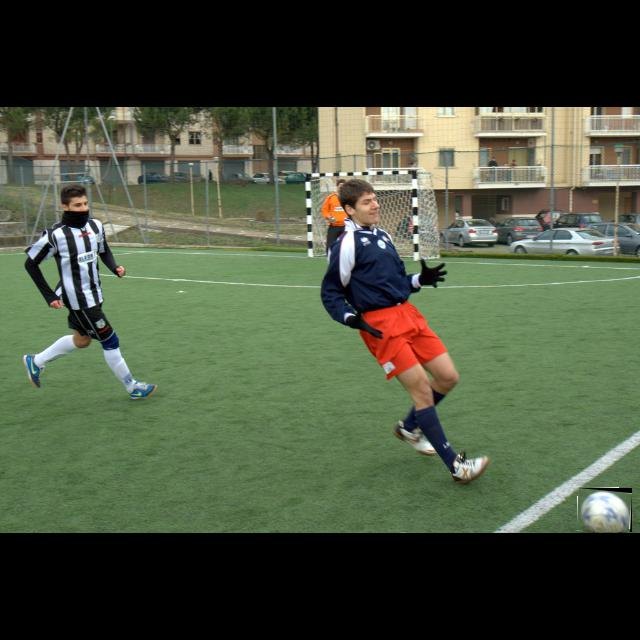Football: (578, 488, 632, 532)
